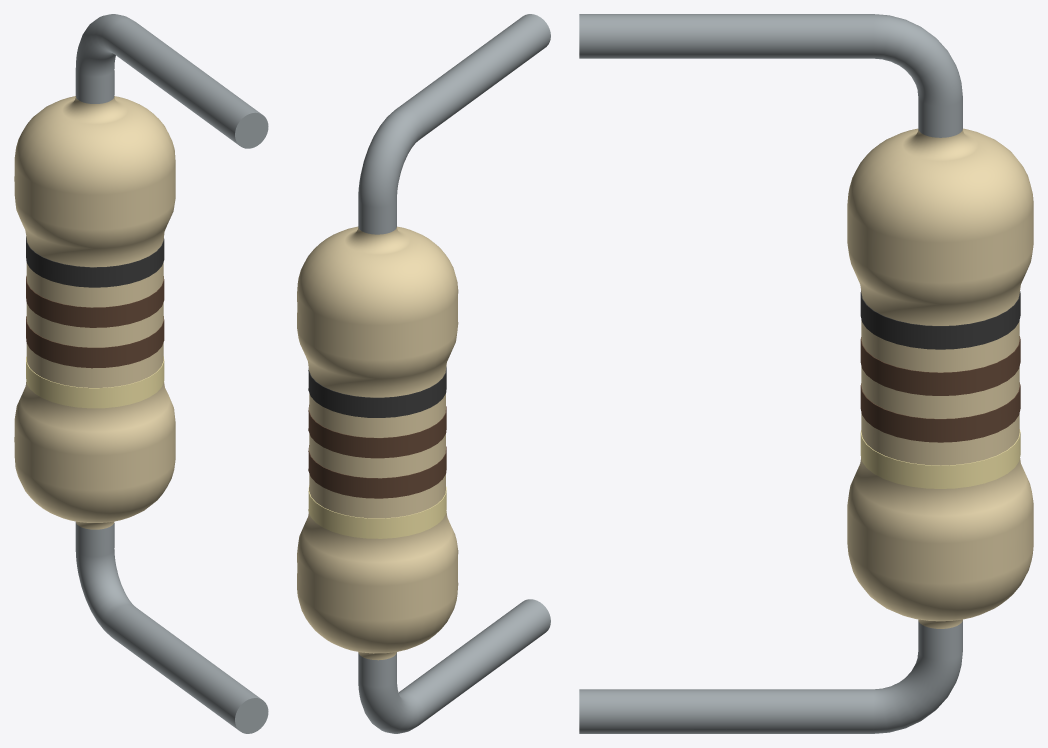
File: R_0,5W__D2,5__L6,8__Pitch-10__Spacing-0_begie v1.fbx
The picture shows the model from 3 angles, left to right: view 1: azimuth 30°, elevation 25°; view 2: azimuth 150°, elevation 25°; view 3: azimuth 270°, elevation 25°; orthographic projection. The views are drawn at different scales.
Visible parts, largest first — view 1: Body1; view 2: Body1; view 3: Body1.
Boxes of the visible parts, x1=… form: Body1: x1=14, y1=14, x2=268, y2=733; Body1: x1=297, y1=14, x2=550, y2=733; Body1: x1=579, y1=14, x2=1033, y2=733.
Size of the model in its own units: 2.5 by 10.6 by 6.1.
